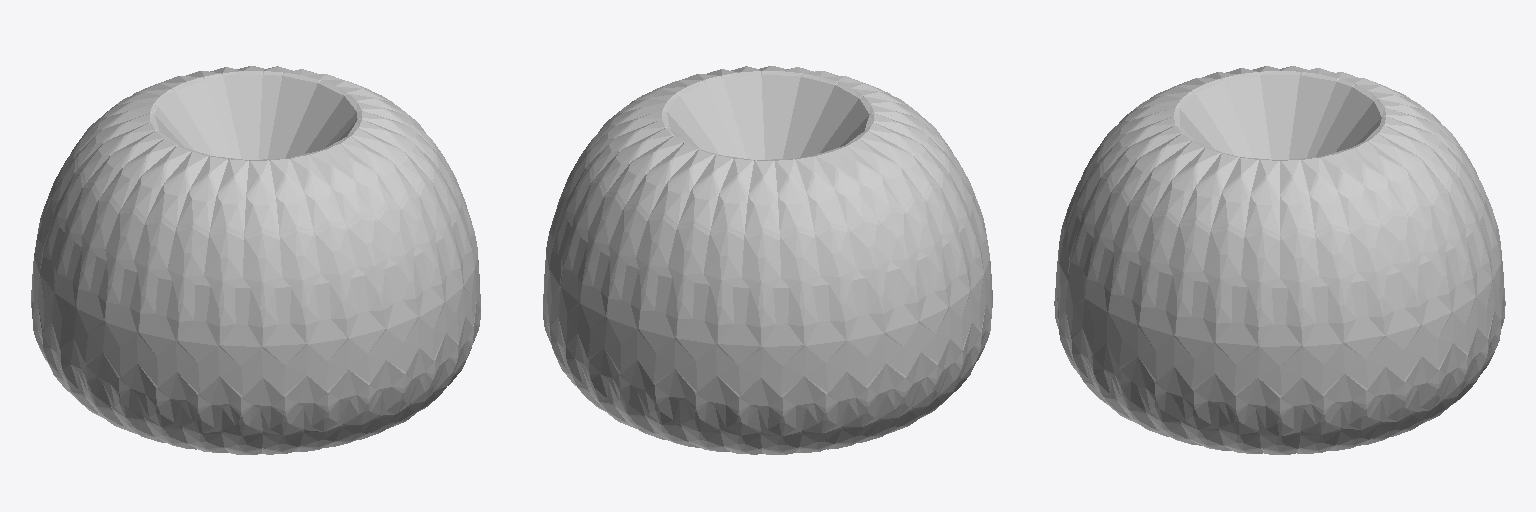
File: AbstractShape.obj
3 renders of one model, left to right at view 1: azimuth 30°, elevation 25°; view 2: azimuth 150°, elevation 25°; view 3: azimuth 270°, elevation 25°, orthographic.
Parts seen in each view (by area): view 1: AbstractShape; view 2: AbstractShape; view 3: AbstractShape.
Part boxes in pixels (x1,y1,x2,y2): AbstractShape: (31,66,480,454); AbstractShape: (543,66,992,454); AbstractShape: (1054,66,1505,454).
Size of the model in its own units: 1.56 by 1.07 by 1.56.